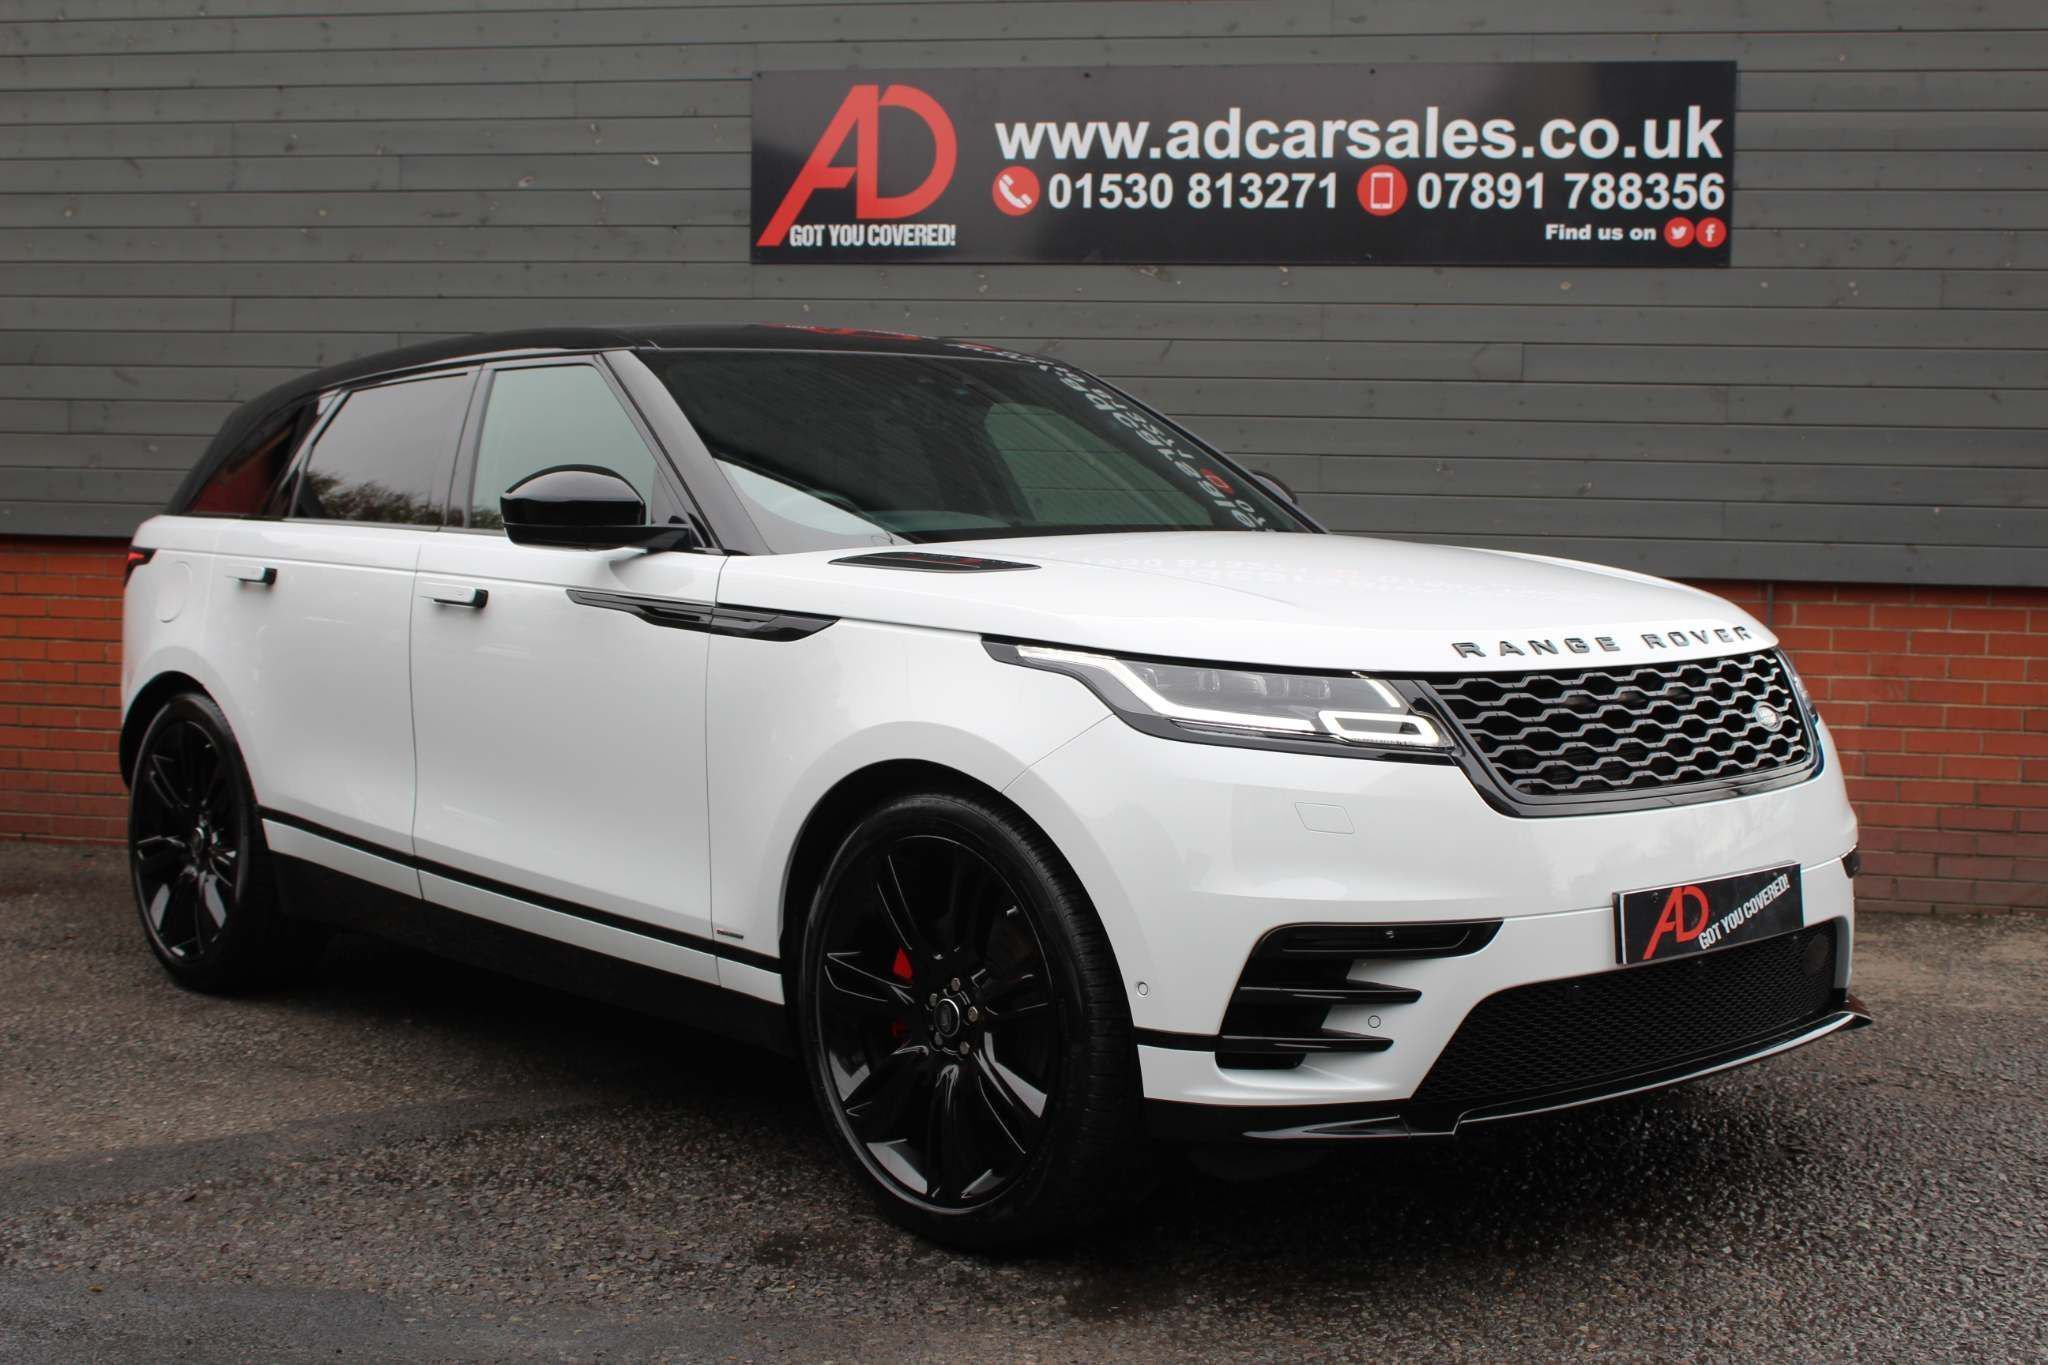car: (123, 302, 1861, 1179)
